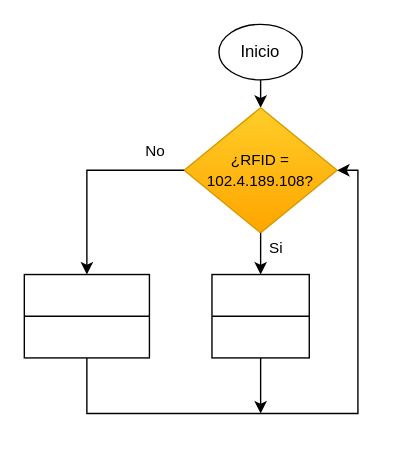
Some shapes in this 393 by 449 pixel diagram are drawn without their labels. Here are the shapes that lost their labels. From the top down, the centre of each, then its label:
point 86,315: Cierra puerta Servo 0º
point 260,315: Abre puerta Servo 180º
